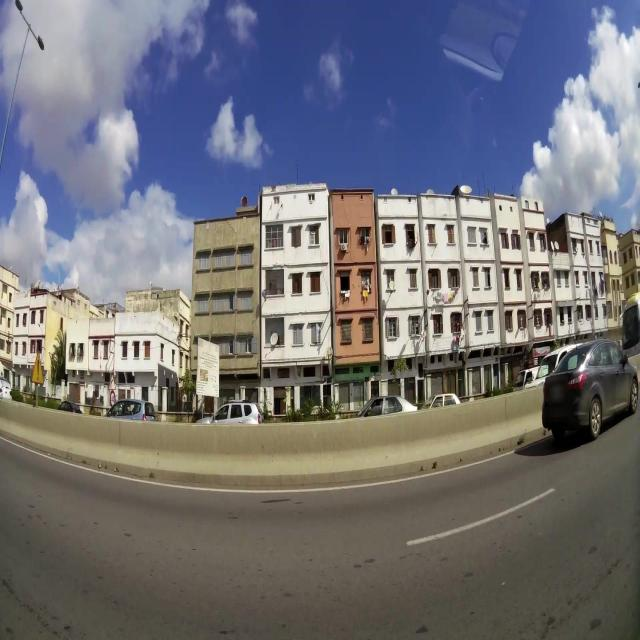car: (542, 338, 639, 442), (530, 345, 579, 390), (361, 394, 418, 417), (210, 399, 262, 422), (109, 398, 157, 420), (429, 392, 461, 407), (58, 398, 83, 414), (264, 412, 290, 424)
